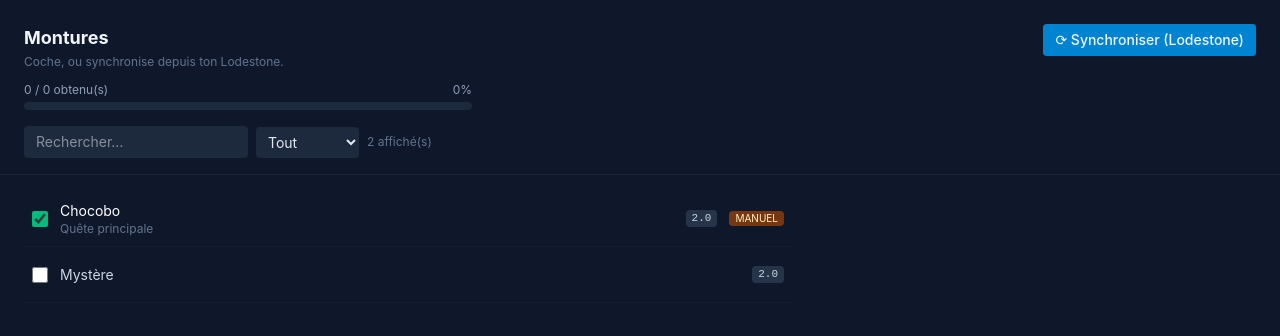
CollectionsView › describes acquisition from the description, or says it is undocumented
The width and height of the screenshot is (1280, 336).
Click the text "Chocobo": x=90, y=210 [60,202,120,218]
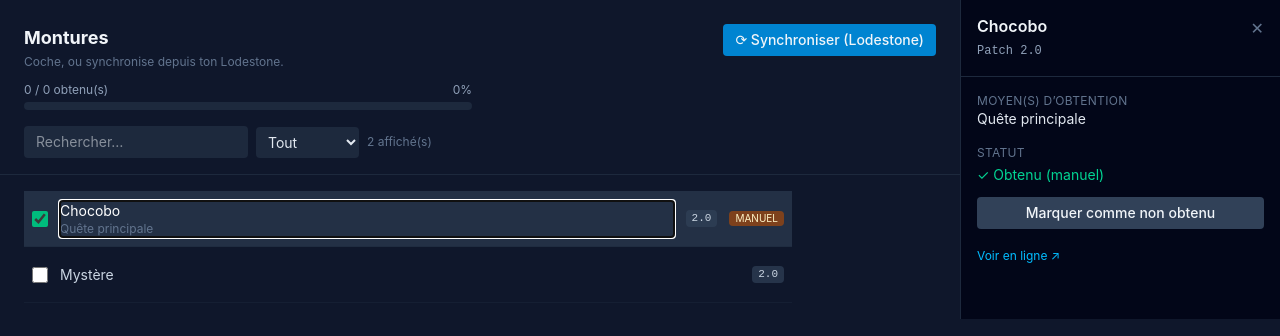
Result: the text "Quête principale" below "Moyen(s) d’obtention" is shown at [977,110,1086,127]
Click the button "Mystère": x=87, y=274 [60,264,740,284]
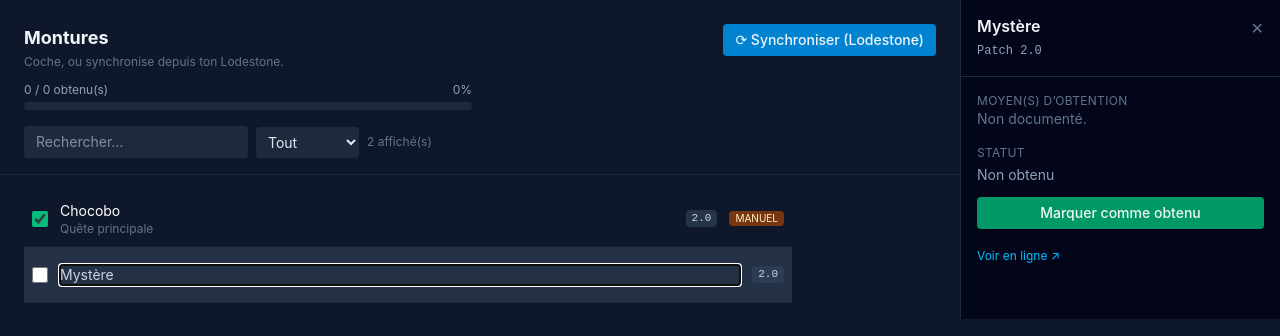
Result: the text "Non documenté." is shown at [977,110,1087,127]
